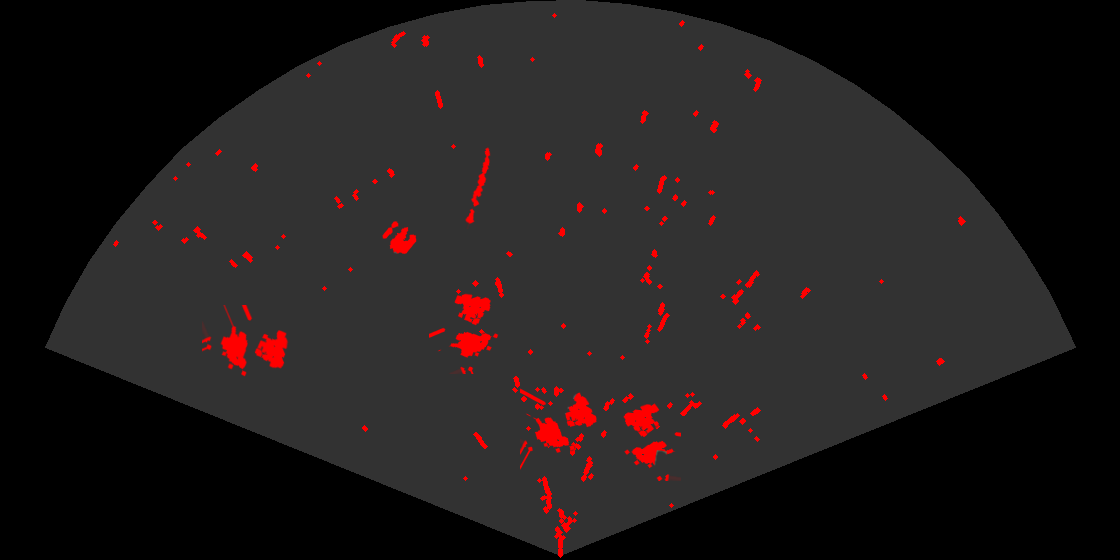ball: (381, 220, 418, 256)
cage: (520, 387, 598, 471), (202, 305, 290, 378), (429, 292, 500, 374), (622, 402, 681, 481)
chain: (464, 146, 492, 229)
